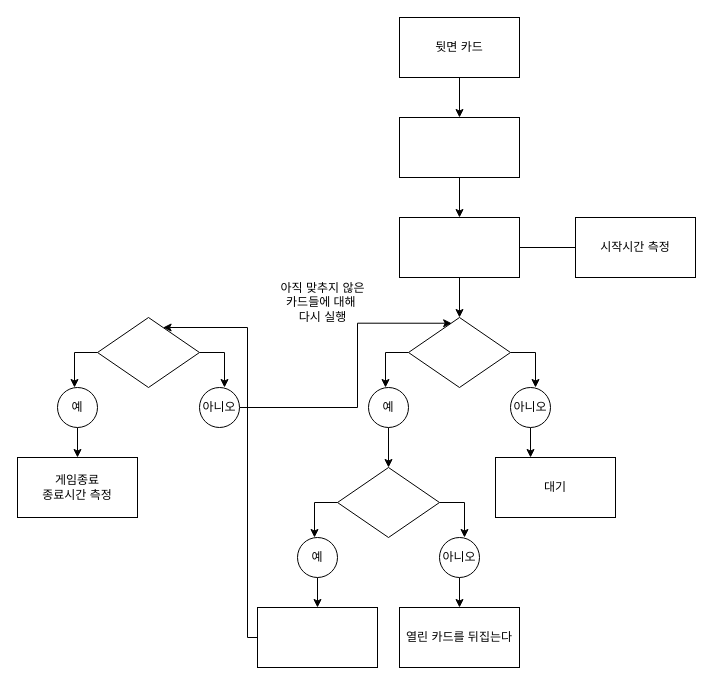
The diagram is 713 pixels wide and 685 high, and some of its shapes have lost their labels. The box of each missing label's shape, as (x1, y1, x2, y2) in pixels:
2개의 카드가 눌렸나?: (408, 316, 510, 388)
다시 순서대로 뒤집고 시작: (398, 216, 520, 278)
동일한 카드인가?: (336, 466, 440, 538)
모든 카드가 앞면인가?: (96, 316, 200, 388)
순서대로 12장의 카드앞면을 보인다: (398, 116, 520, 178)
앞면을 유지한다 카드 수 카운트: (256, 606, 378, 668)
